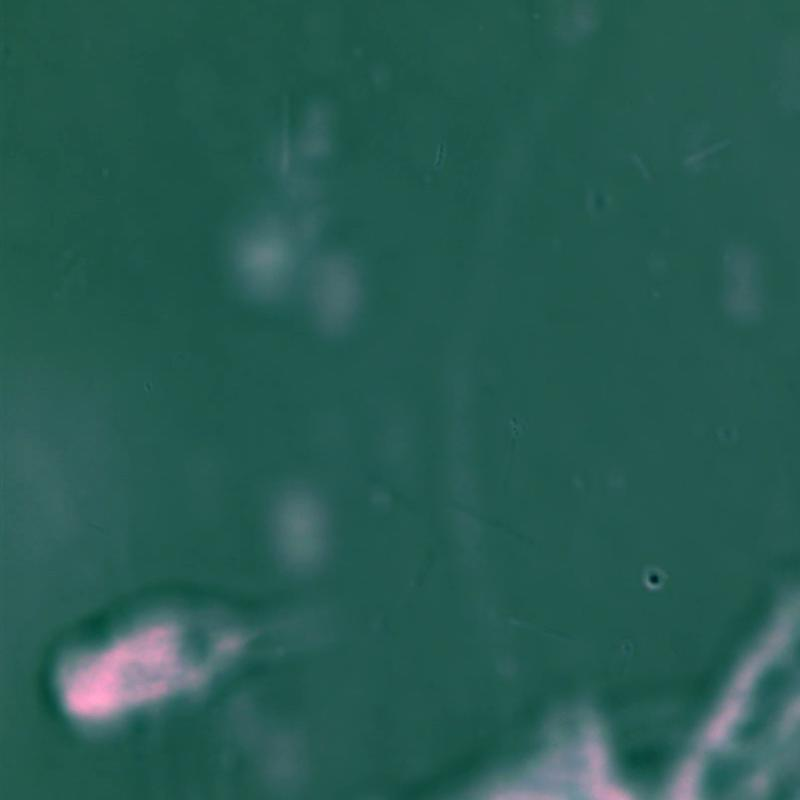depth:100: (27, 576, 402, 739)
